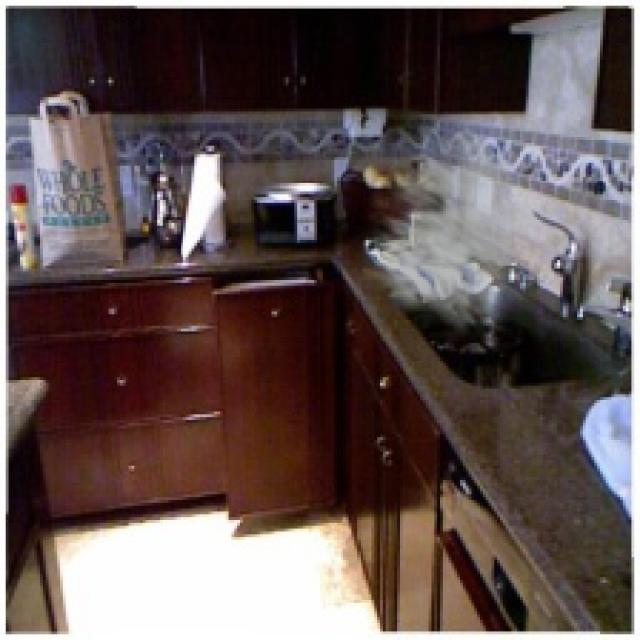smoke: (346, 120, 546, 343)
